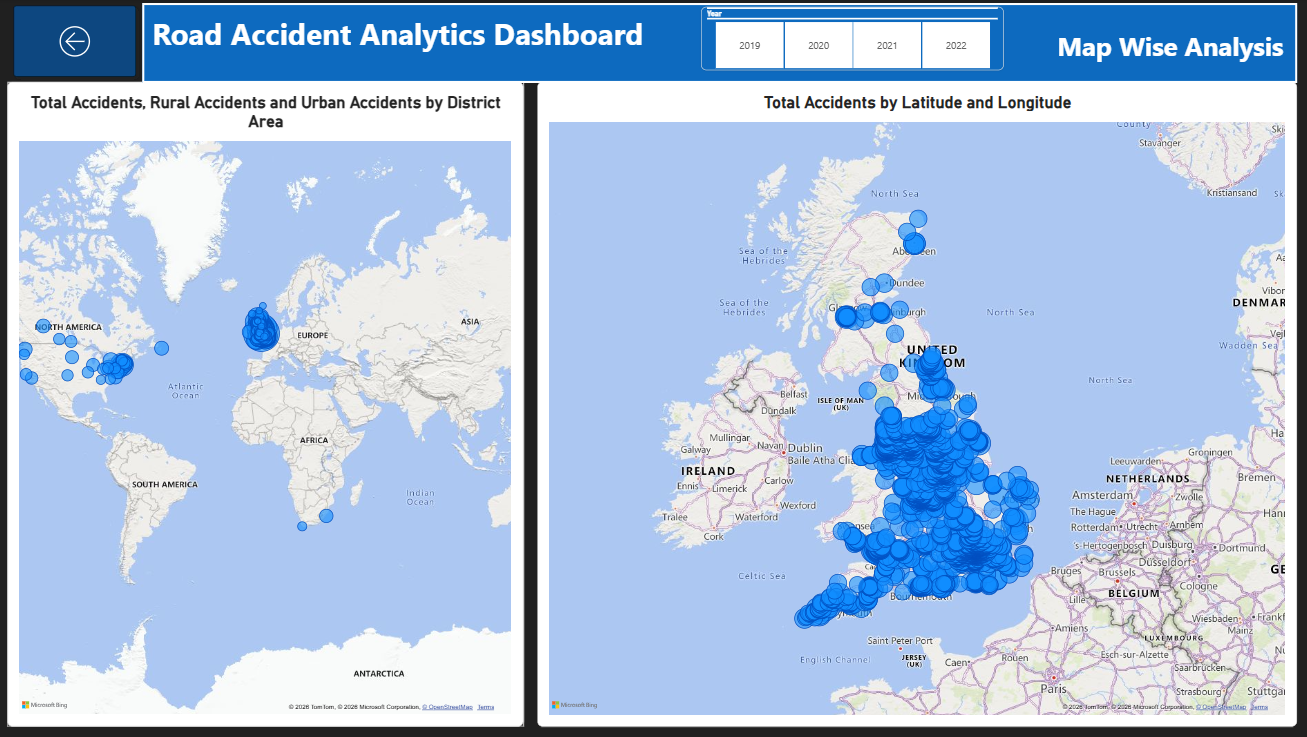

The page's visual inventory and layout, read from the dashboard file:
{"tool":"powerbi","page":{"name":"06_Latitude & Longitude.","canvas":[1920,1080],"ordinal":5},"visuals":[{"type":"map","fields":{"Size":["accident data.Total Accidents"],"Category":["accident data.District Area"]},"box":[16.3,121.2,747.4,933.8],"z":0},{"type":"map","fields":{"Y":["accident data.Latitude"],"X":["accident data.Longitude"],"Size":["accident data.Total Accidents"]},"box":[783.6,121.2,1100.3,933.8],"z":1000},{"type":"shape","box":[211.7,7.2,1672.1,115.8],"z":2000},{"type":"actionButton","box":[16.3,1.8,195.4,121.2],"z":3000},{"type":"textbox","box":[226.2,21.7,732.9,81.4],"z":4000},{"type":"textbox","box":[1536.4,43.4,347.5,59.7],"z":4001},{"type":"slicer","fields":{"Values":["accident data.Year"]},"box":[1020,12,438,92],"z":4002}]}

Visuals, with their boxes in screenshot pixels (x1, y1, x2, y2), scaled from the page's 1920x1080 canvas onto the 1307x737 screenshot:
map - accident data.Total Accidents x accident data.District Area: <bbox>11, 83, 520, 720</bbox>
map - accident data.Latitude x accident data.Longitude: <bbox>533, 83, 1282, 720</bbox>
shape: <bbox>144, 5, 1282, 84</bbox>
actionButton: <bbox>11, 1, 144, 84</bbox>
textbox: <bbox>154, 15, 653, 70</bbox>
textbox: <bbox>1046, 30, 1282, 70</bbox>
slicer - accident data.Year: <bbox>694, 8, 993, 71</bbox>
